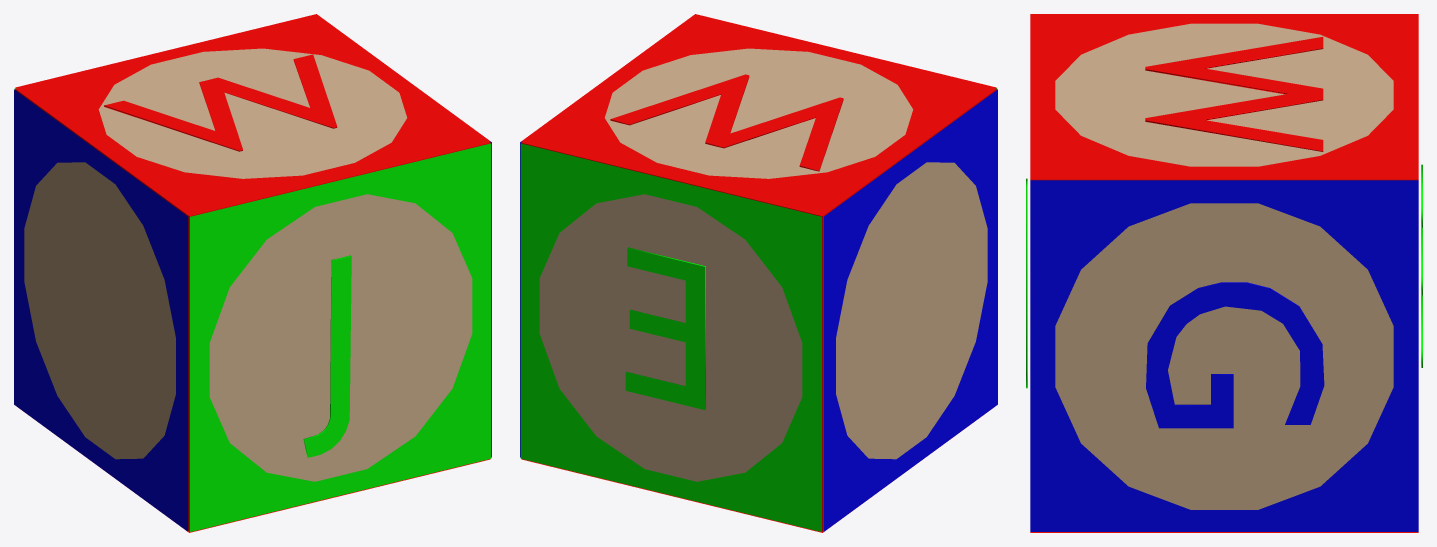
3 views of the same model, side by side, from view 1: azimuth 30°, elevation 25°; view 2: azimuth 150°, elevation 25°; view 3: azimuth 270°, elevation 25° (orthographic). The views are drawn at different scales.
Visible parts, largest first — view 1: cube; view 2: cube; view 3: cube.
Boxes of the visible parts, x1,y1,x2,y2 form: cube: (14, 14, 491, 532); cube: (520, 14, 997, 532); cube: (1026, 14, 1422, 532).
Bounding box in the file's own units: 0.0458 × 0.046 × 0.046.
